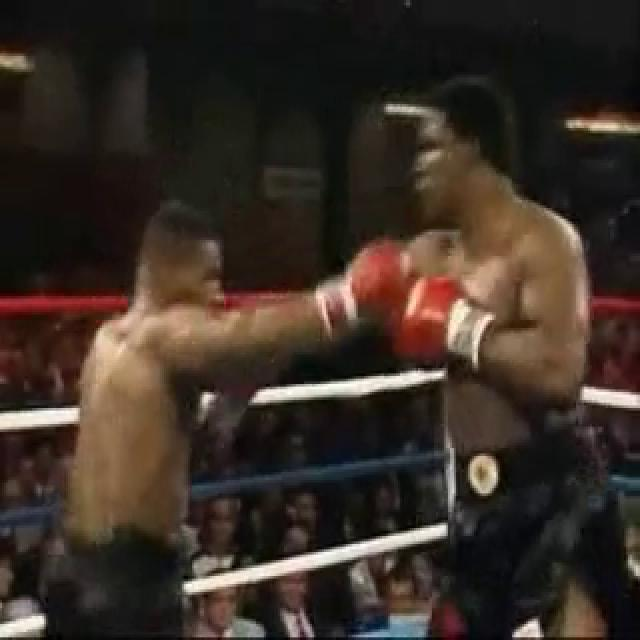violence: (56, 74, 622, 640)
